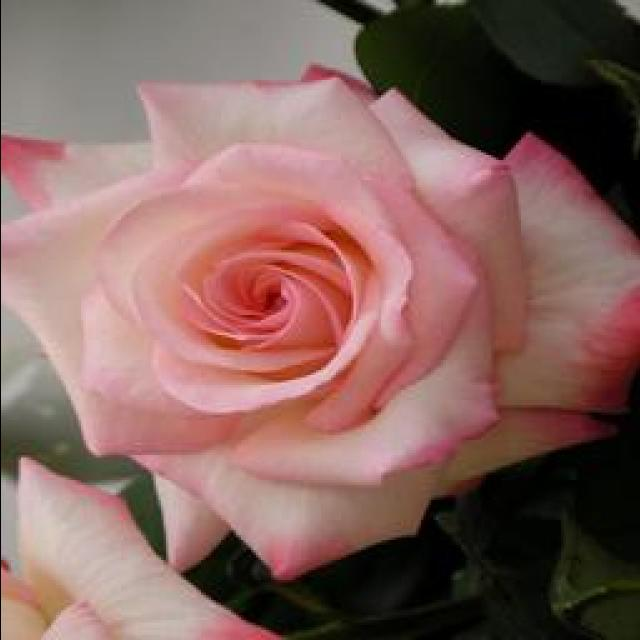rose: (6, 68, 612, 550)
